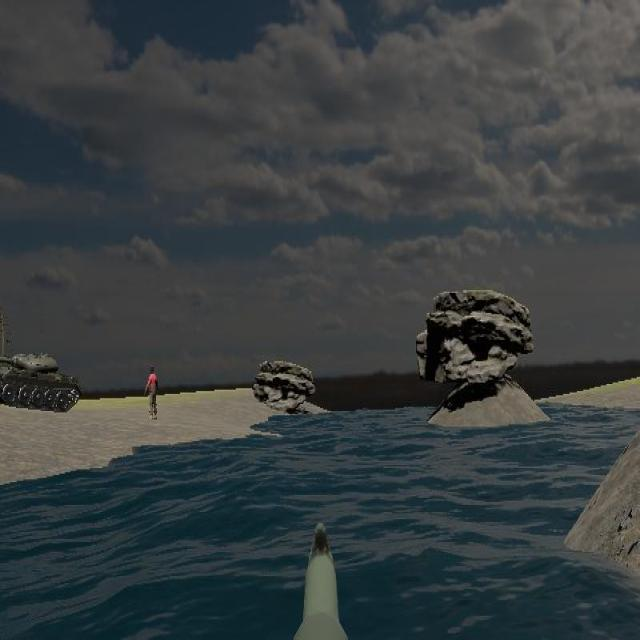Human: (145, 365, 159, 419)
Tank: (0, 349, 81, 414)
